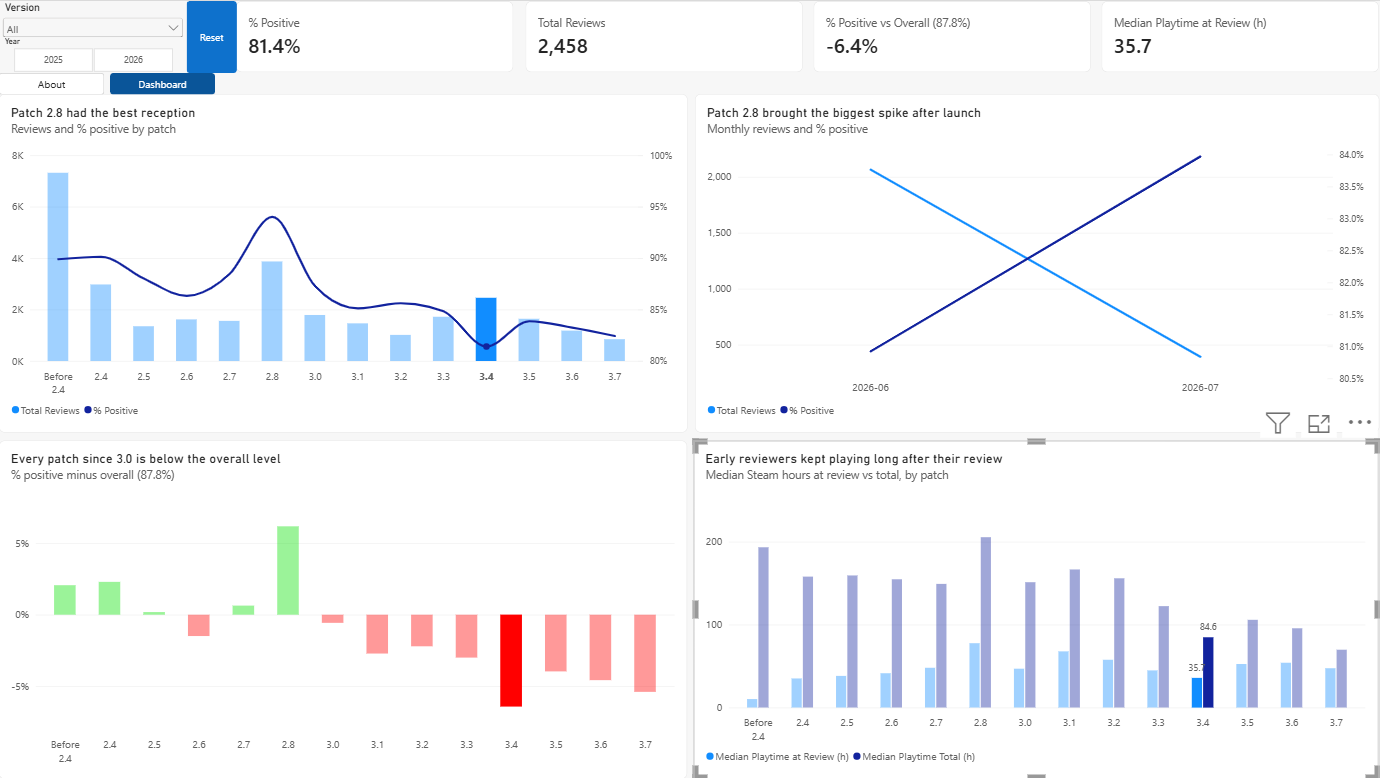

What the dashboard file says about the page in this screenshot:
{"tool":"powerbi","page":{"name":"Dashboard","canvas":[1920,1080],"ordinal":2},"visuals":[{"type":"lineClusteredColumnComboChart","title":"Patch 2.8 had the best reception","fields":{"Category":["Dim_Patch.Version"],"Y":["_Measures.Total Reviews"],"Y2":["_Measures.% Positive"]},"box":[0,130,956,470],"z":0},{"type":"clusteredColumnChart","title":"Every patch since 3.0 is below the overall level","fields":{"Category":["Dim_Patch.Version"],"Y":["_Measures.% Positive vs Overall"]},"box":[0,610,955,470],"z":1000},{"type":"lineChart","title":"Patch 2.8 brought the biggest spike after launch","fields":{"Category":["Calendar.Year_Month"],"Y":["_Measures.Total Reviews"],"Y2":["_Measures.% Positive"]},"box":[966,130,950,470],"z":2000},{"type":"slicer","fields":{"Values":["Dim_Patch.Version"]},"box":[0,0,260,50],"z":3000},{"type":"slicer","fields":{"Values":["Calendar.Year"]},"box":[0,50,260,50],"z":4000},{"type":"clusteredColumnChart","title":"Early reviewers kept playing long after their review","fields":{"Category":["Dim_Patch.Version"],"Y":["_Measures.Median Playtime at Review (h)","_Measures.Median Playtime Total (h)"]},"box":[965,610,950,470],"z":5000},{"type":"cardVisual","fields":{"Data":["_Measures.% Positive"]},"box":[330,0,385,100],"z":6000},{"type":"cardVisual","fields":{"Data":["_Measures.Total Reviews"]},"box":[730,0,385,100],"z":7000},{"type":"cardVisual","fields":{"Data":["_Measures.% Positive vs Overall"]},"box":[1130,0,385,100],"z":8000},{"type":"cardVisual","fields":{"Data":["_Measures.Median Playtime at Review (h)"]},"box":[1530.8,0,385,100],"z":9000},{"type":"actionButton","box":[260,0,70,100],"z":10000},{"type":"pageNavigator","box":[0,100,300,30],"z":11000}]}

Visuals, with their boxes on the page's 1920x1080 design canvas (x1, y1, x2, y2). These are canvas units, not pixel positions in the 1380x778 screenshot, which may show the page scaled, cropped or inside an application window:
"Patch 2.8 had the best reception" lineClusteredColumnComboChart: (x1=0, y1=130, x2=956, y2=600)
"Every patch since 3.0 is below the overall level" clusteredColumnChart: (x1=0, y1=610, x2=955, y2=1080)
"Patch 2.8 brought the biggest spike after launch" lineChart: (x1=966, y1=130, x2=1916, y2=600)
slicer - Dim_Patch.Version: (x1=0, y1=0, x2=260, y2=50)
slicer - Calendar.Year: (x1=0, y1=50, x2=260, y2=100)
"Early reviewers kept playing long after their review" clusteredColumnChart: (x1=965, y1=610, x2=1915, y2=1080)
cardVisual - _Measures.% Positive: (x1=330, y1=0, x2=715, y2=100)
cardVisual - _Measures.Total Reviews: (x1=730, y1=0, x2=1115, y2=100)
cardVisual - _Measures.% Positive vs Overall: (x1=1130, y1=0, x2=1515, y2=100)
cardVisual - _Measures.Median Playtime at Review (h): (x1=1531, y1=0, x2=1916, y2=100)
actionButton: (x1=260, y1=0, x2=330, y2=100)
pageNavigator: (x1=0, y1=100, x2=300, y2=130)
